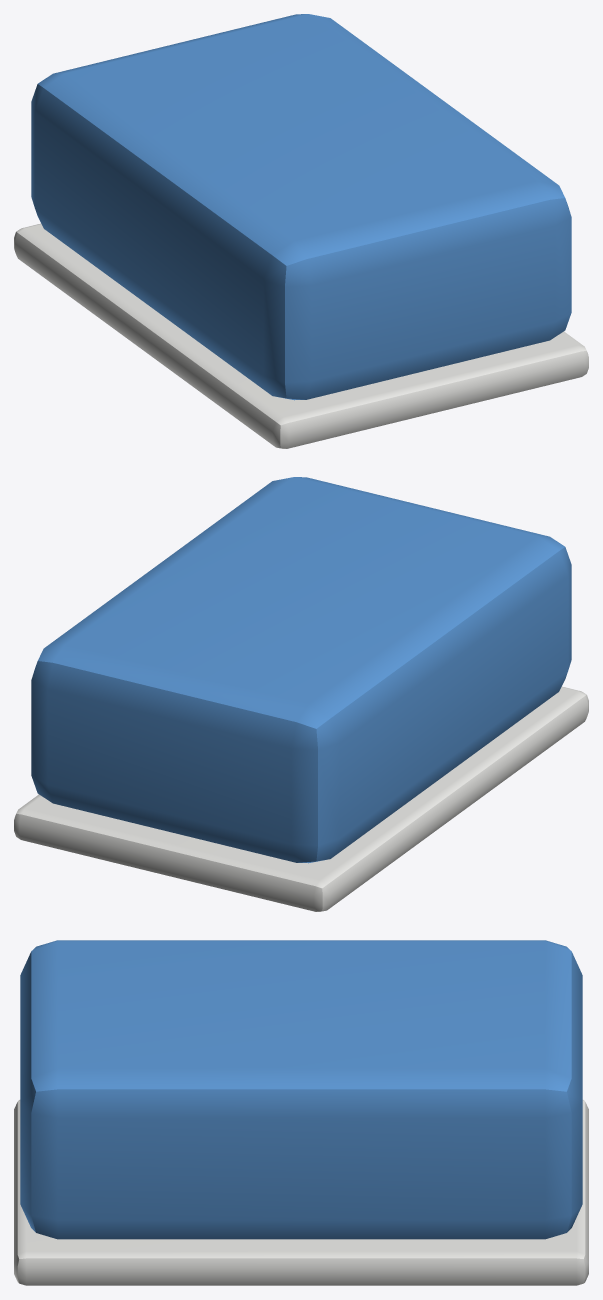
The model's file is tool_applicator.glb.
3 views of the same model, one above another, from view 1: azimuth 30°, elevation 25°; view 2: azimuth 150°, elevation 25°; view 3: azimuth 270°, elevation 25° (orthographic). The views are drawn at different scales.
Parts seen in each view (by area): view 1: SM_tool_applicator; view 2: SM_tool_applicator; view 3: SM_tool_applicator.
Part boxes in pixels (x1,y1,x2,y2): SM_tool_applicator: (14, 14, 588, 448); SM_tool_applicator: (14, 477, 588, 911); SM_tool_applicator: (14, 940, 588, 1285).
Bounding box in the file's own units: 0.062 × 0.036 × 0.092.
